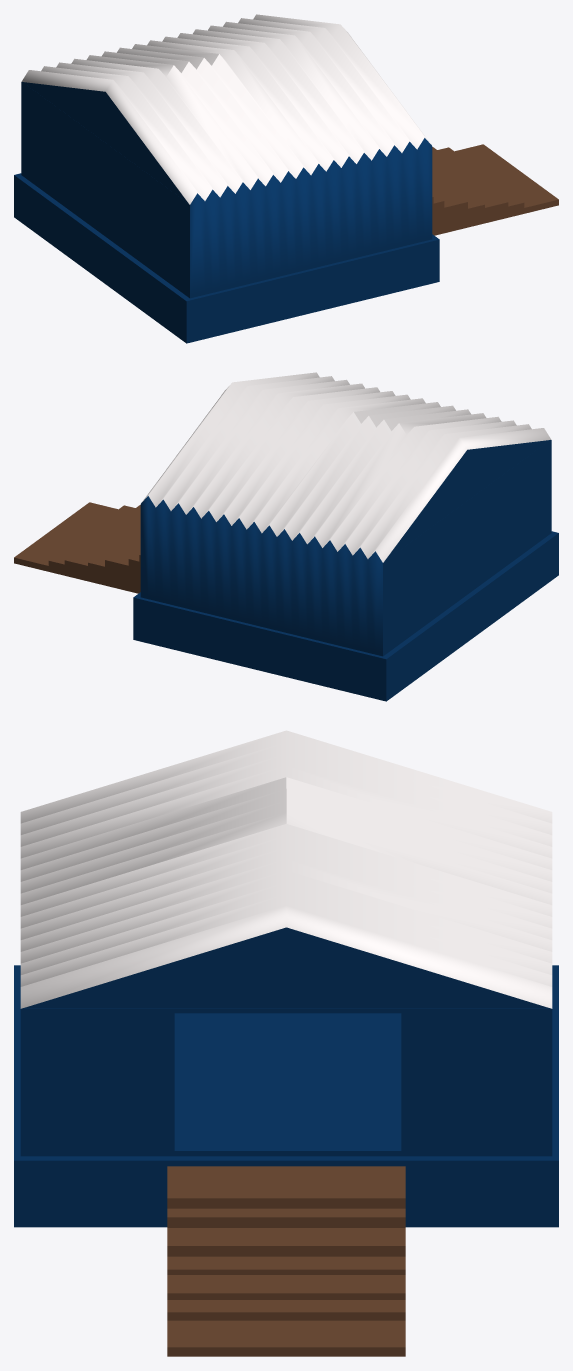
File: WareHouseWithCeiling.fbx
3 views of the same model, one above another, from view 1: azimuth 30°, elevation 25°; view 2: azimuth 150°, elevation 25°; view 3: azimuth 270°, elevation 25° (orthographic). The views are drawn at different scales.
Visible parts, largest first — view 1: Warehouse2; view 2: Warehouse2; view 3: Warehouse2.
Boxes of the visible parts, bbox=[...] form: Warehouse2: bbox=[14, 14, 558, 343]; Warehouse2: bbox=[14, 372, 558, 701]; Warehouse2: bbox=[14, 730, 558, 1356].
Bounding box in the file's own units: 507 × 227 × 360.
